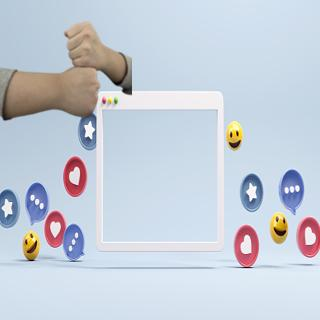CAREFUL: (14, 23, 135, 116)
